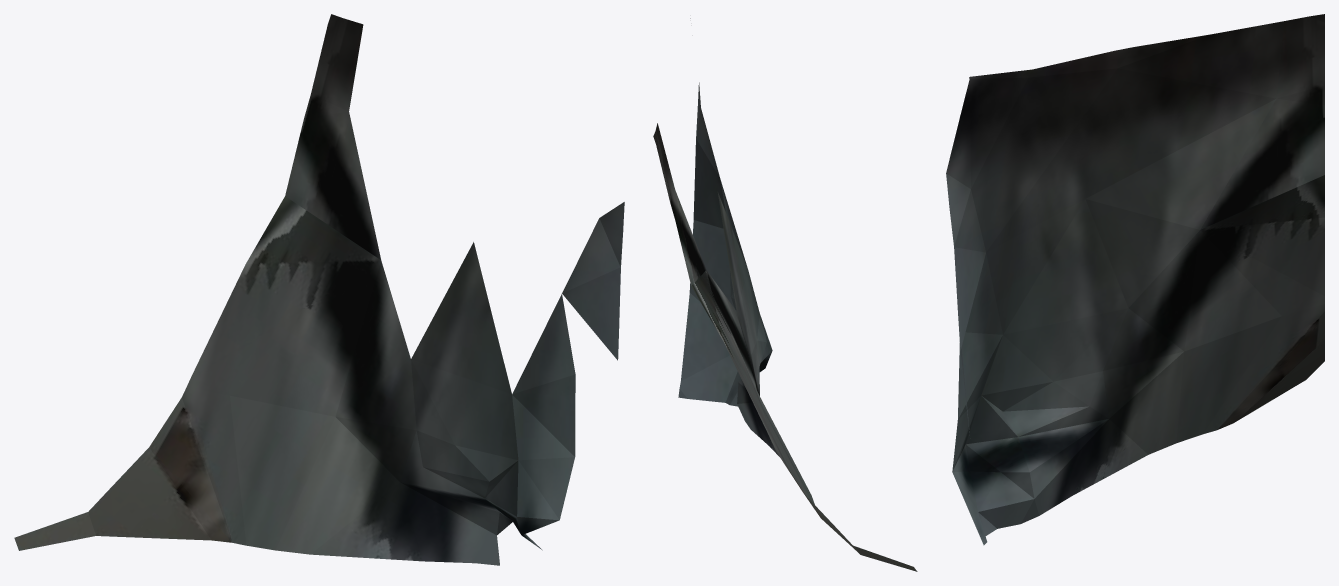
3 views of the same model, side by side, from view 1: azimuth 30°, elevation 25°; view 2: azimuth 150°, elevation 25°; view 3: azimuth 270°, elevation 25° (orthographic). The views are drawn at different scales.
Bounding box in the file's own units: 0.8373 × 0.8374 × 0.5808.
2 materials, 2 textured.
